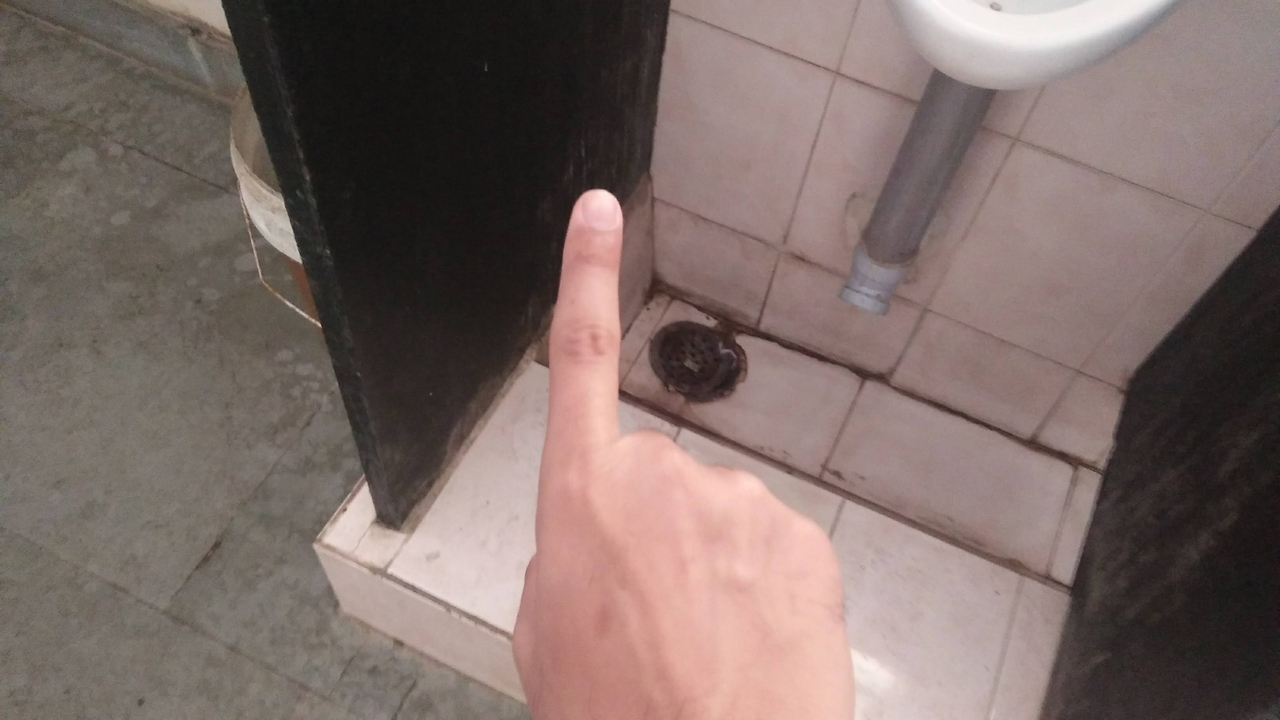fingertip: (562, 184, 628, 248)
